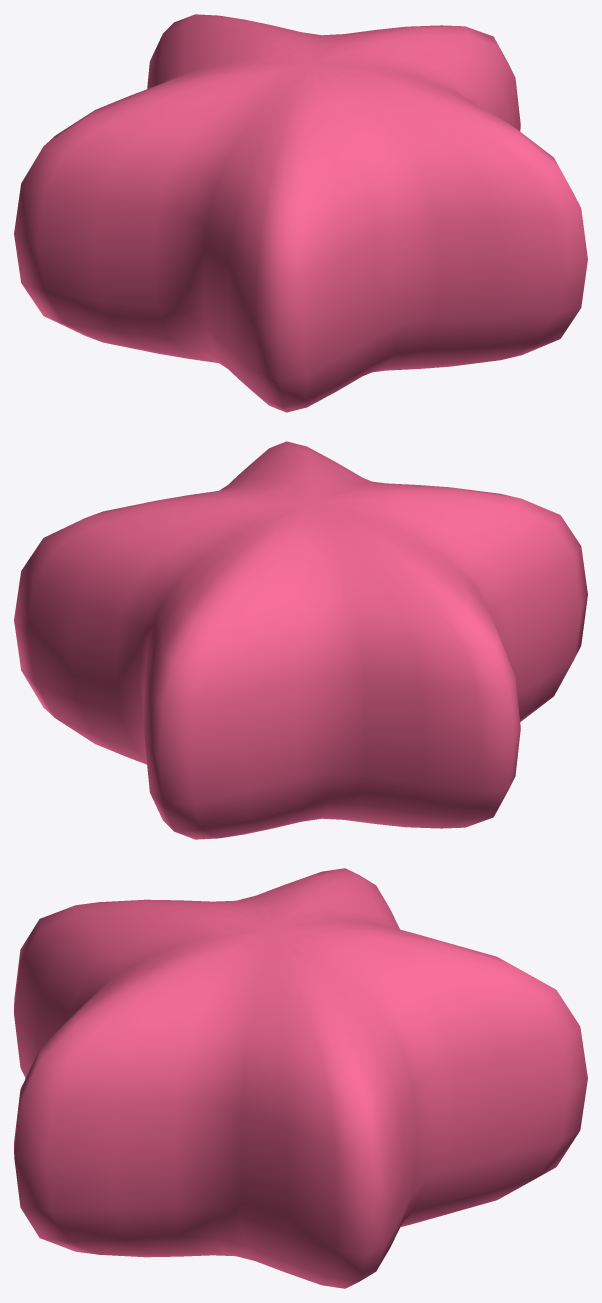
The model's file is Mintstar_03.fbx.
3 views of the same model, one above another, from view 1: azimuth 30°, elevation 25°; view 2: azimuth 150°, elevation 25°; view 3: azimuth 270°, elevation 25° (orthographic). The views are drawn at different scales.
Parts seen in each view (by area): view 1: Mintstar_03_LOD0; view 2: Mintstar_03_LOD0; view 3: Mintstar_03_LOD0.
Boxes of the visible parts, x1,y1,x2,y2 form: Mintstar_03_LOD0: [14, 14, 587, 412]; Mintstar_03_LOD0: [14, 441, 587, 839]; Mintstar_03_LOD0: [14, 868, 587, 1288].
Size of what is drawn, in the model's own units: 447 by 246 by 426.
